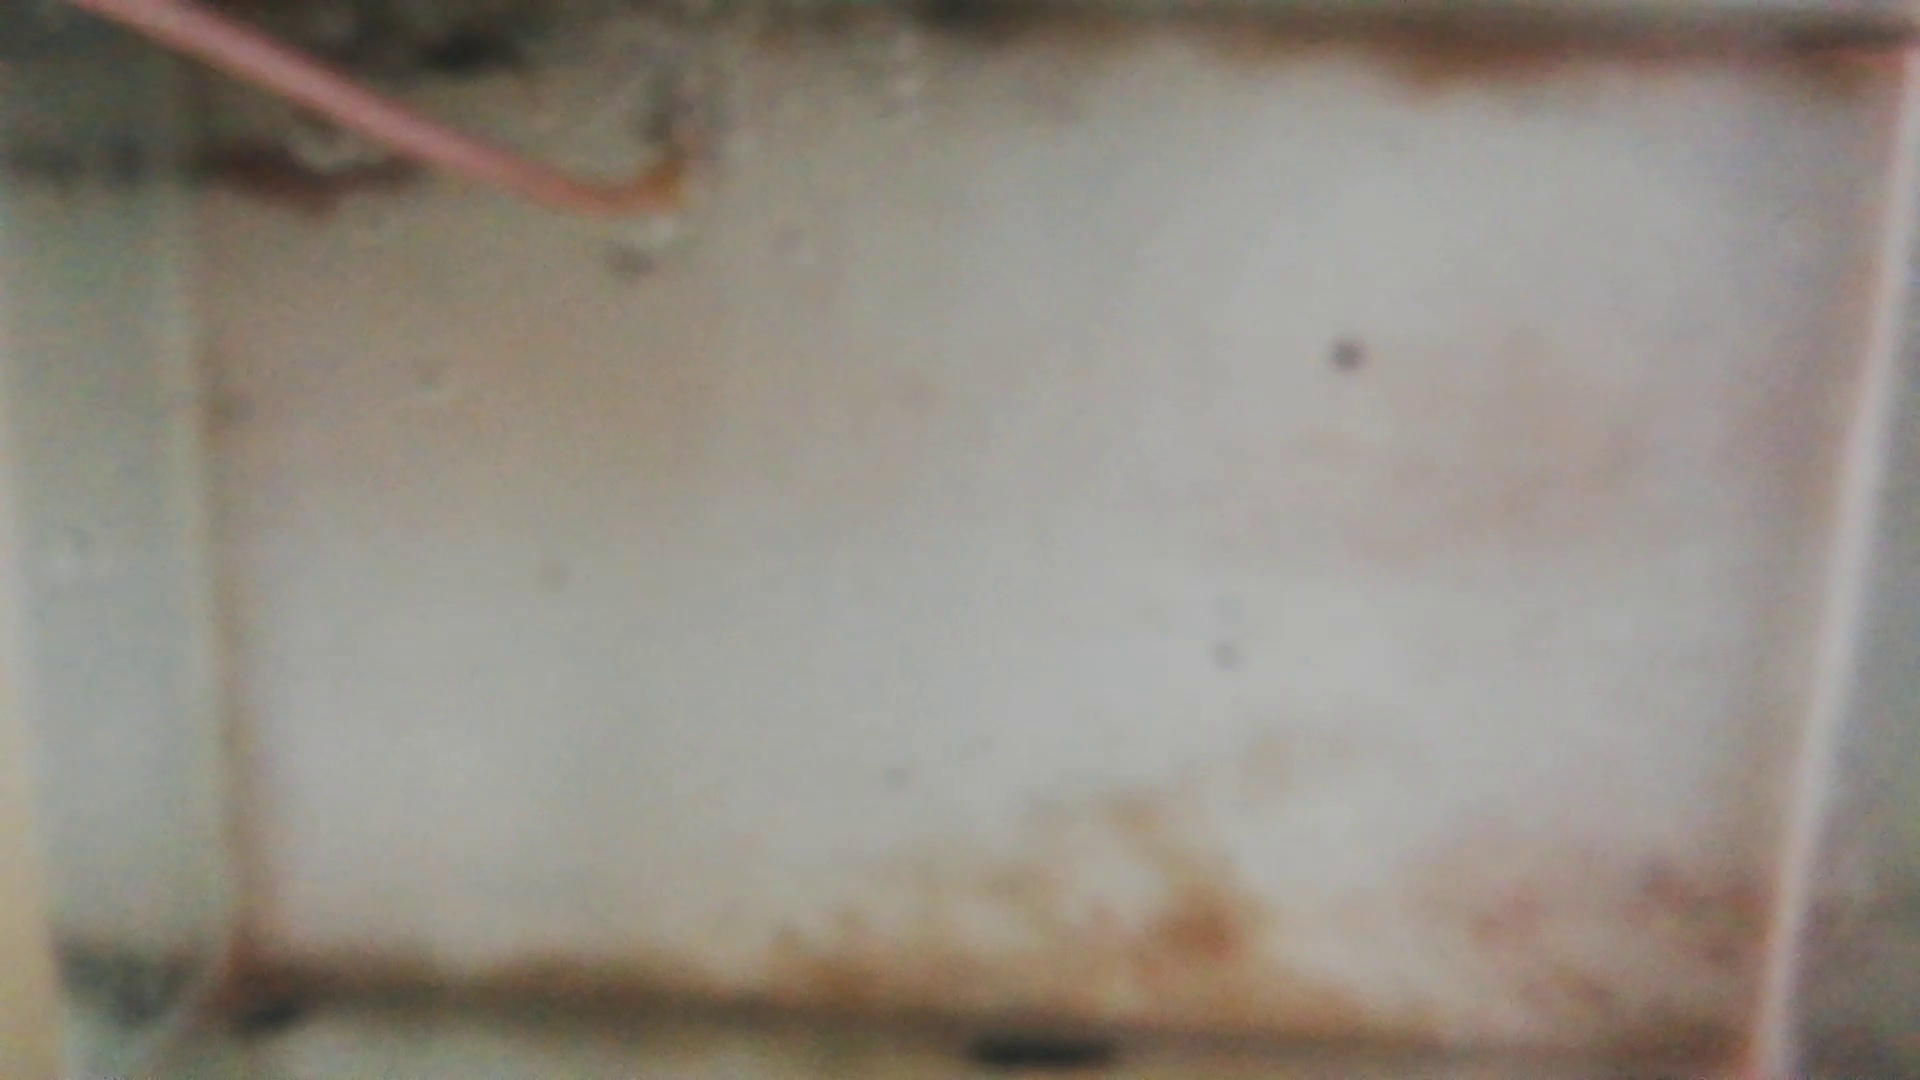fish: (190, 146, 415, 203)
